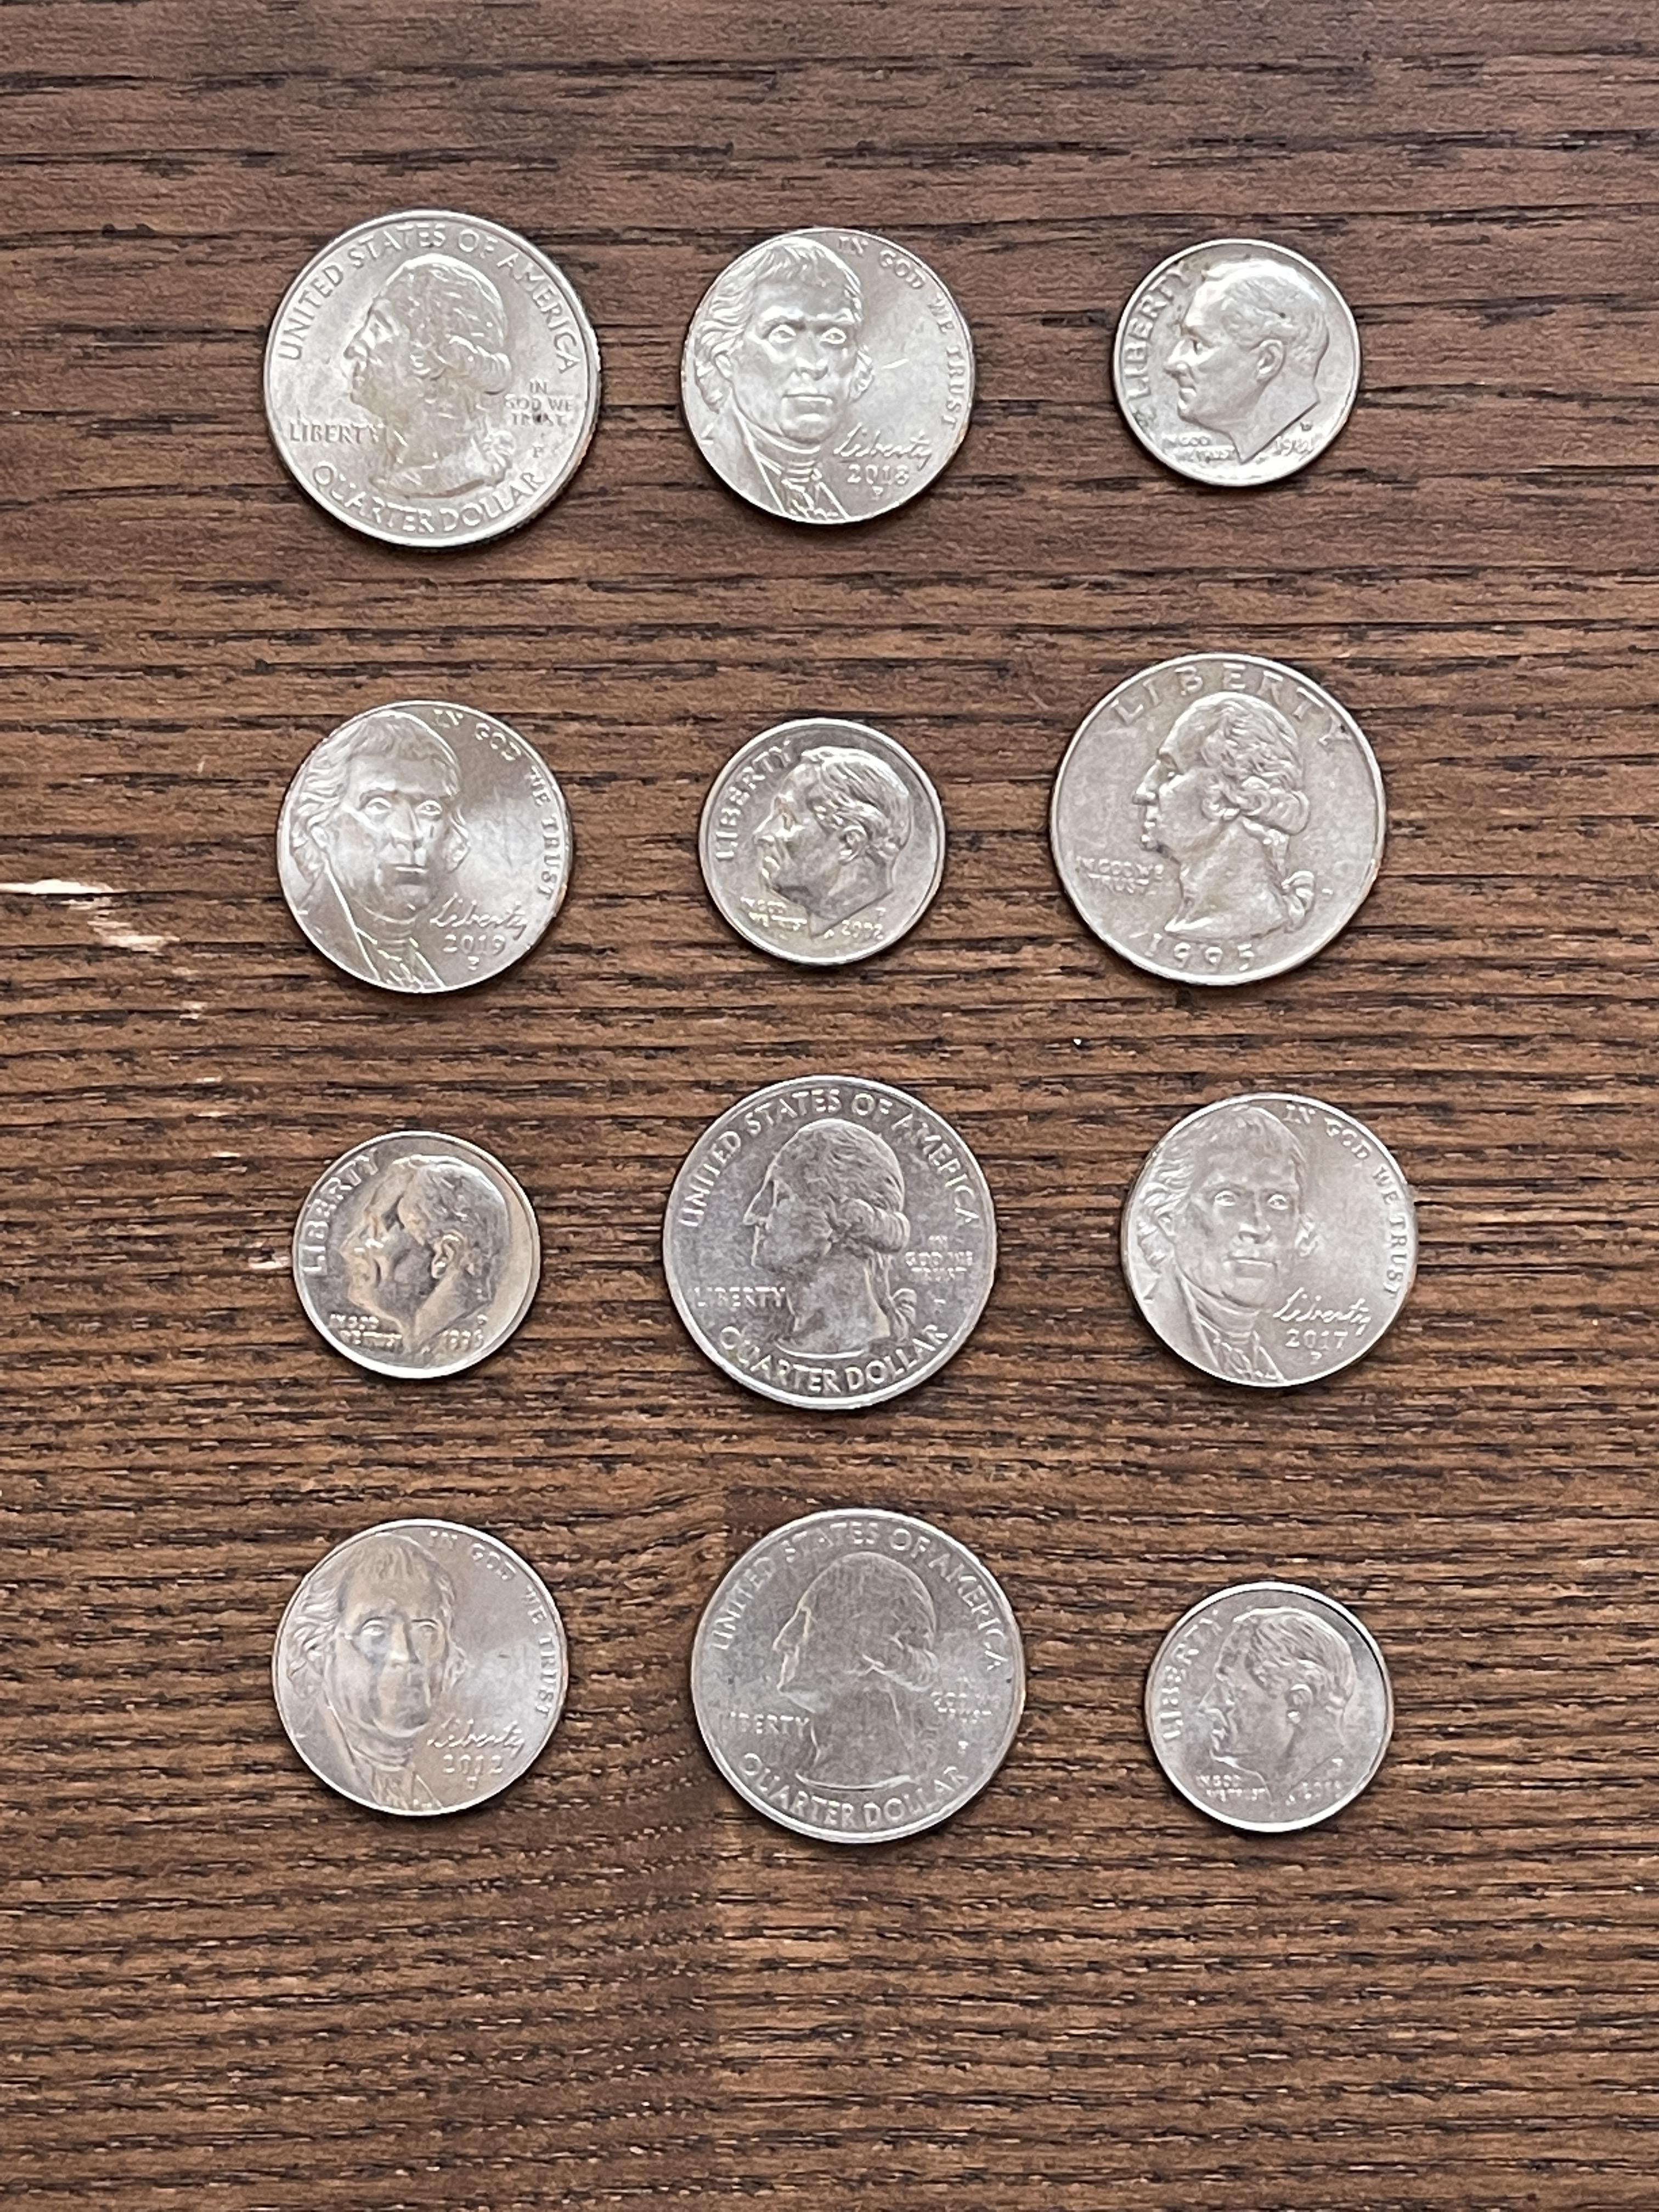Dime: (1138, 1578, 1399, 1838), (1112, 233, 1364, 495), (695, 718, 953, 970), (291, 1129, 547, 1381)
Nickel: (674, 223, 978, 529), (1121, 1094, 1427, 1395), (268, 1519, 572, 1820), (274, 698, 577, 995)
Quarter: (256, 204, 606, 550), (687, 1503, 1028, 1850), (655, 1073, 1004, 1411), (1047, 651, 1391, 991)
